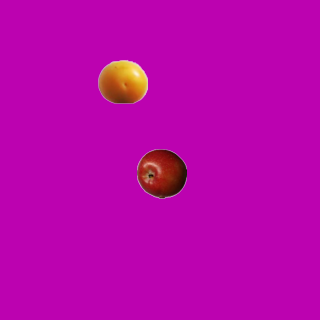Apple Braeburn: (136, 148, 186, 198)
Cherry Wax Yellow: (97, 56, 147, 106)
